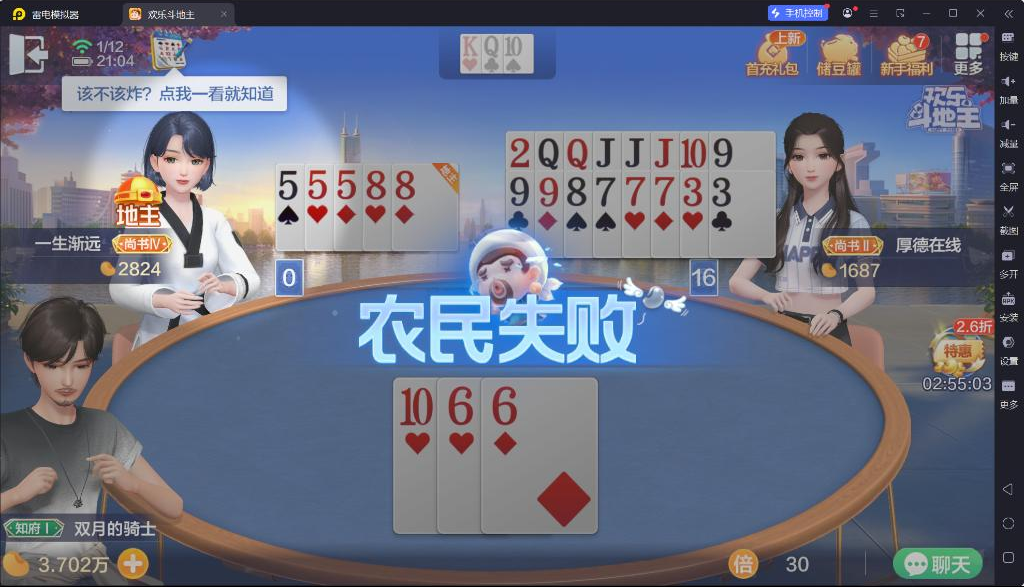J: (653, 133, 676, 169), (624, 135, 646, 170), (595, 134, 617, 168)
K: (460, 34, 481, 57)
Q: (537, 134, 562, 171), (566, 136, 590, 172), (481, 35, 503, 58)
eight: (364, 168, 388, 203), (394, 167, 417, 203), (567, 176, 589, 210)
five: (276, 168, 300, 203), (335, 167, 358, 201), (307, 169, 330, 202)
nine: (536, 176, 562, 209), (507, 175, 532, 209), (711, 135, 735, 170)
seven: (594, 174, 619, 208), (653, 174, 677, 207), (625, 174, 648, 207)
six: (443, 383, 477, 428), (488, 383, 521, 429)
ten: (397, 384, 435, 429), (680, 135, 708, 170), (504, 34, 524, 57)
three: (681, 174, 705, 208), (712, 173, 735, 208)
two: (508, 136, 532, 169)
